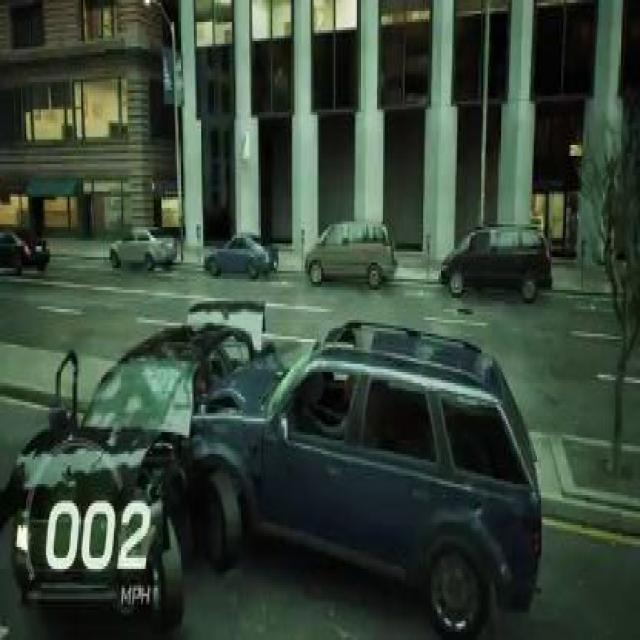accident: (10, 287, 547, 637)
